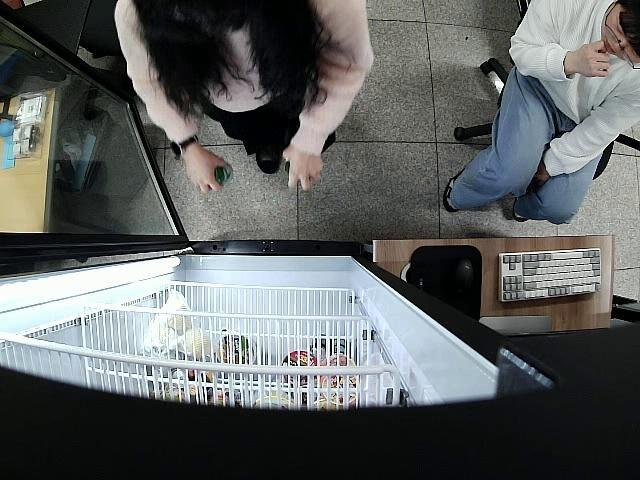12_chilsungCider: (214, 164, 233, 185)
